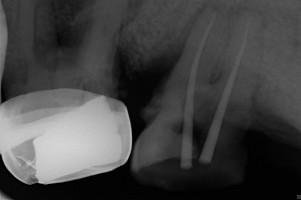Dental Caries: (142, 0, 269, 72)
Endo-Periodontal Lesion: (46, 0, 89, 48)
